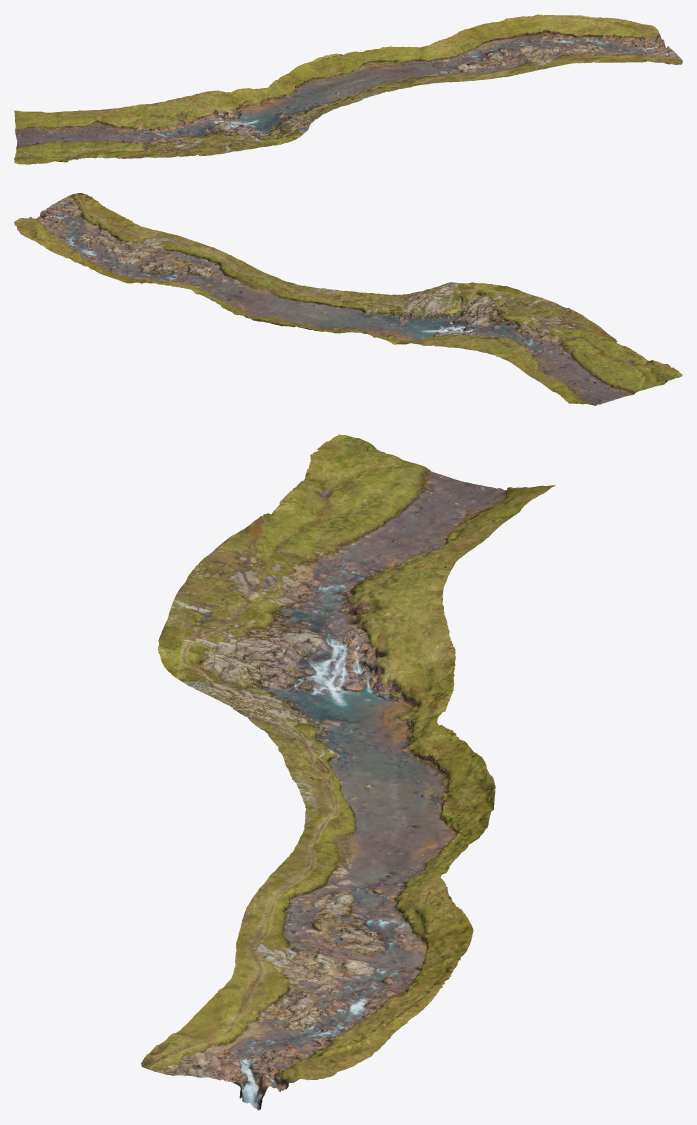
File: river-1k.glb
3 renders of one model, top to bottom at view 1: azimuth 30°, elevation 25°; view 2: azimuth 150°, elevation 25°; view 3: azimuth 270°, elevation 25°, orthographic. The views are drawn at different scales.
Parts seen in each view (by area): view 1: river_3_01; view 2: river_3_01; view 3: river_3_01.
Boxes of the visible parts, <box> form: river_3_01: <box>14,14,682,164</box>; river_3_01: <box>14,193,682,405</box>; river_3_01: <box>141,434,555,1110</box>.
Bounding box in the file's own units: 221 × 11.04 × 62.78.
Materials: 1 (1 with a texture image).
